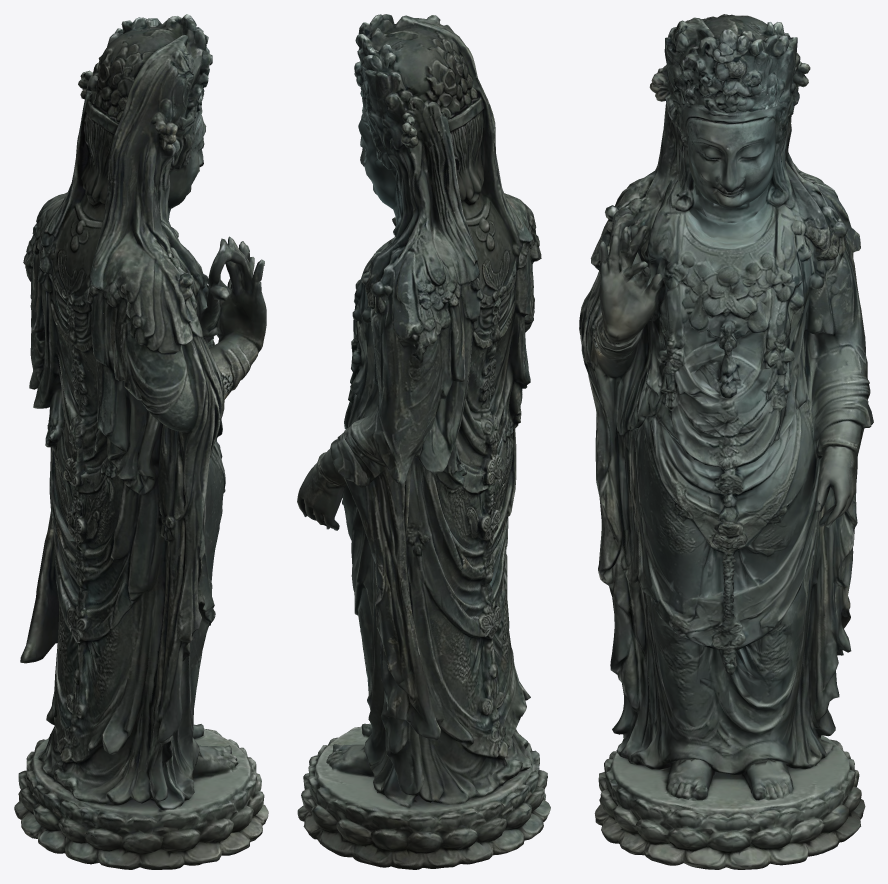
The model's file is liquan-bodhisattva-web-mobile.glb.
The picture shows the model from 3 angles, left to right: view 1: azimuth 30°, elevation 25°; view 2: azimuth 150°, elevation 25°; view 3: azimuth 270°, elevation 25°; orthographic projection. The views are drawn at different scales.
Visible parts, largest first — view 1: tripo_node_08ed1d72-0c50-4bc3-9733-38ded99db233; view 2: tripo_node_08ed1d72-0c50-4bc3-9733-38ded99db233; view 3: tripo_node_08ed1d72-0c50-4bc3-9733-38ded99db233.
Part boxes in pixels (<box>): tripo_node_08ed1d72-0c50-4bc3-9733-38ded99db233: <box>14,14,268,869</box>; tripo_node_08ed1d72-0c50-4bc3-9733-38ded99db233: <box>297,14,550,869</box>; tripo_node_08ed1d72-0c50-4bc3-9733-38ded99db233: <box>579,14,873,869</box>.
Size of the model in its own units: 0.2767 by 0.9787 by 0.3223.
1 material, 1 textured.
